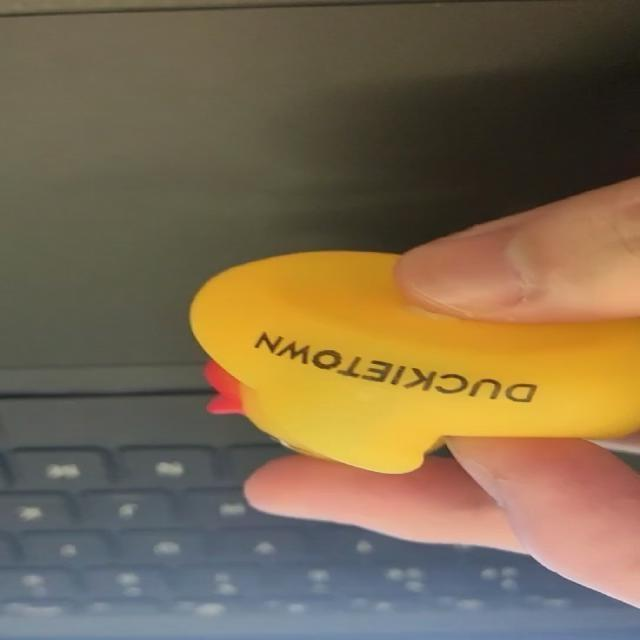rubber-duck: (189, 250, 638, 471)
